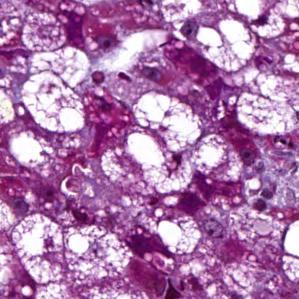ballooning: (130, 89, 205, 154), (21, 71, 88, 137), (12, 212, 70, 288), (234, 72, 297, 139), (190, 17, 261, 73), (152, 208, 204, 258)
